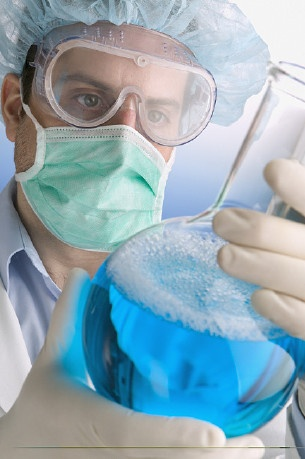Mask: (19, 69, 202, 253)
